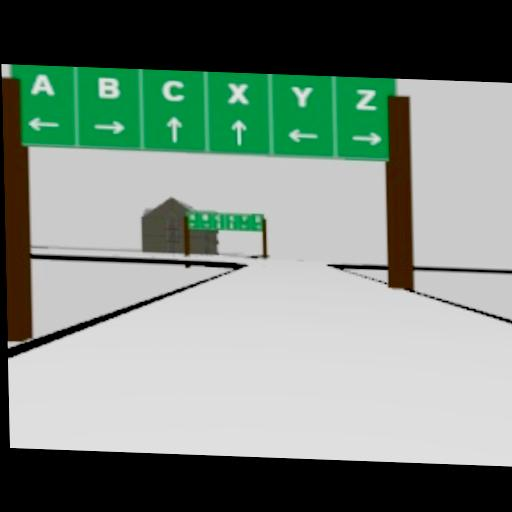A: (28, 72, 56, 96)
B: (96, 75, 122, 99)
C: (162, 77, 186, 101)
Left: (28, 117, 60, 132), (287, 128, 319, 143)
Right: (92, 119, 126, 135), (350, 130, 382, 145)
Straight: (230, 119, 247, 145), (166, 117, 183, 142)
X: (226, 82, 250, 104)
Y: (290, 83, 314, 107)
Z: (354, 88, 378, 109)
